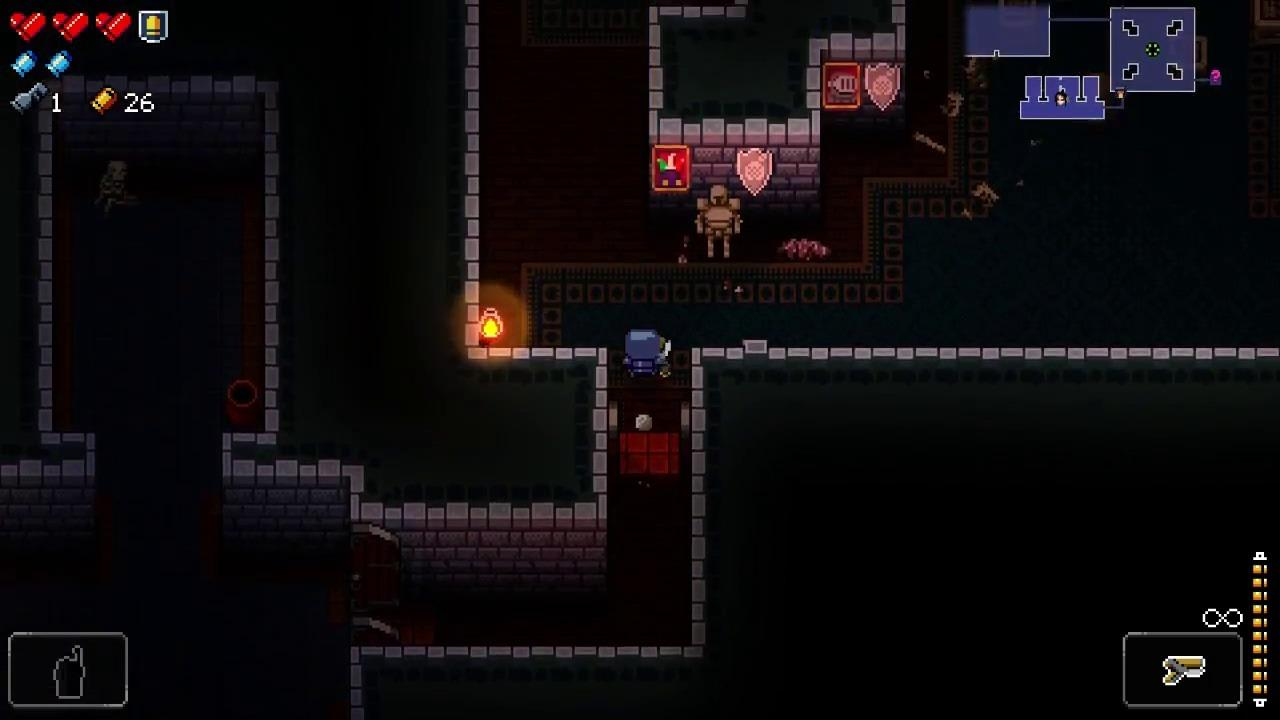player: (622, 328, 664, 380)
unlocked_door: (349, 523, 399, 646), (679, 400, 693, 493), (607, 400, 619, 499)
